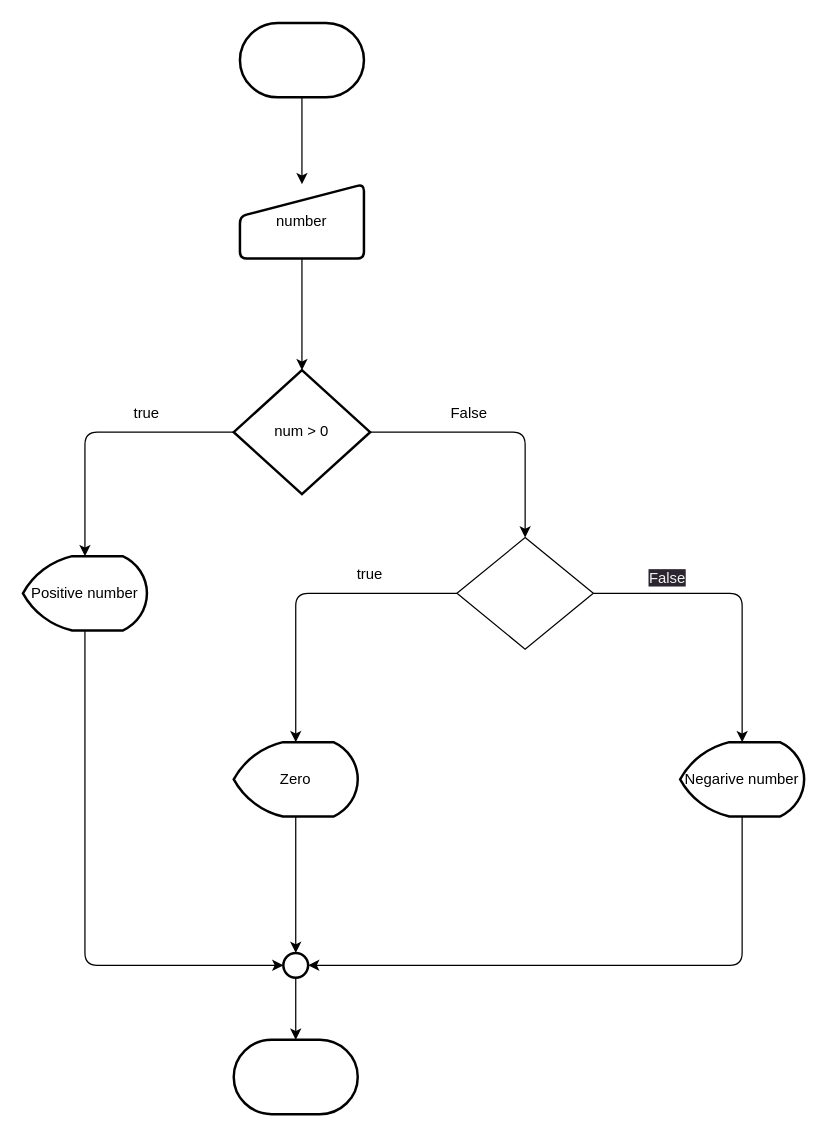
Image size: 826x1136. Some labels were removed from this diagram. Here are the shapes that lost their labels. From the top down, the centre of each, then its label:
pixel 301 59: start
pixel 524 592: num == 0
pixel 295 1076: End
